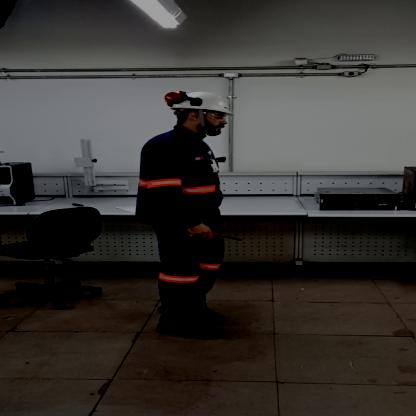Capacete: (166, 86, 235, 118)
